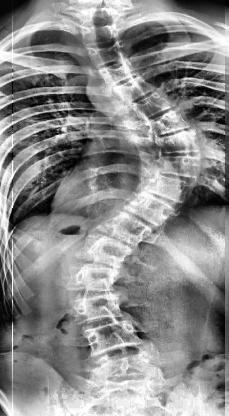Vertebrae: (68, 260, 124, 294), (102, 210, 150, 248), (78, 233, 130, 268), (84, 322, 138, 354), (74, 292, 130, 322), (126, 191, 173, 223), (146, 172, 194, 200), (132, 92, 176, 120), (149, 110, 190, 140), (154, 156, 204, 180), (158, 130, 200, 156), (89, 44, 131, 67), (116, 76, 152, 100), (83, 26, 118, 48), (104, 63, 138, 83)
